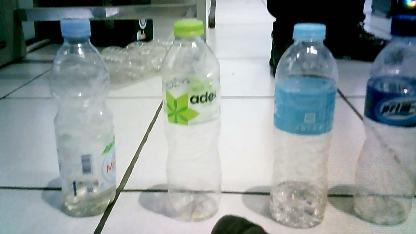Plastic Bottle: (30, 14, 130, 222), (256, 14, 350, 234), (147, 13, 241, 229), (354, 12, 416, 234)
